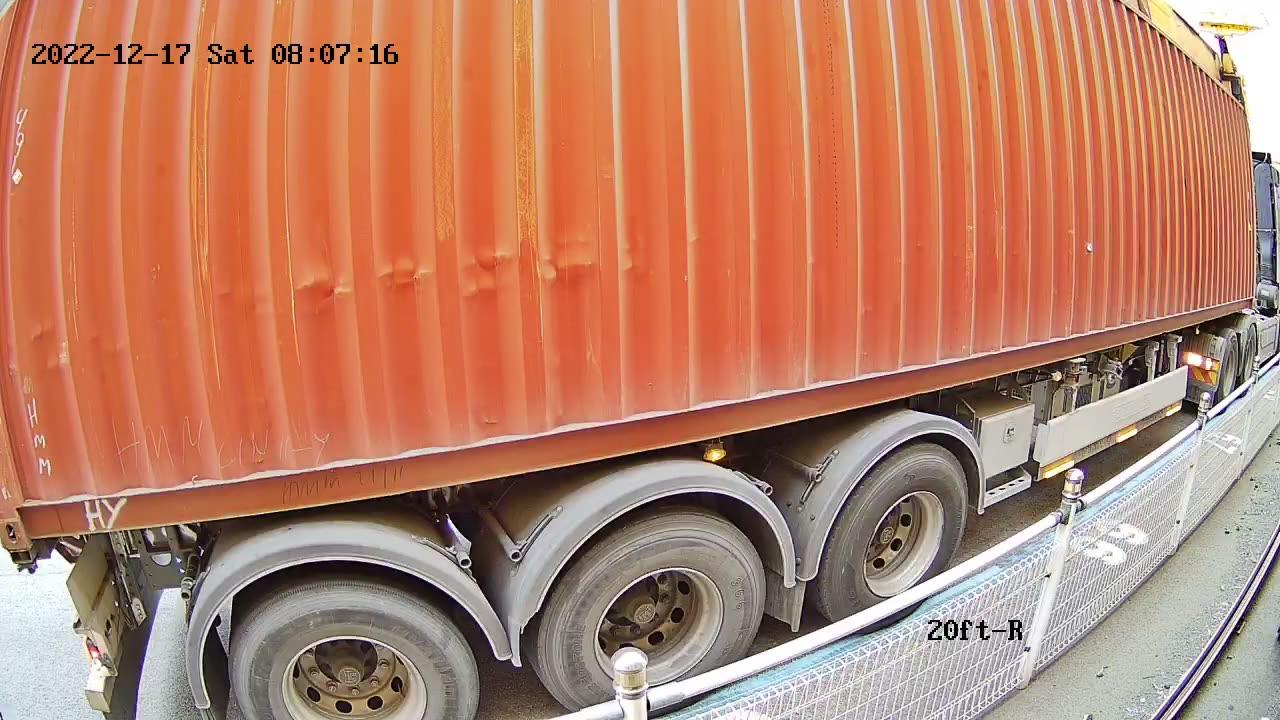Cone: (8, 545, 42, 579)
Hole_L: (1, 462, 71, 545)
Tire: (538, 517, 767, 708), (228, 582, 474, 714), (826, 445, 970, 614)
